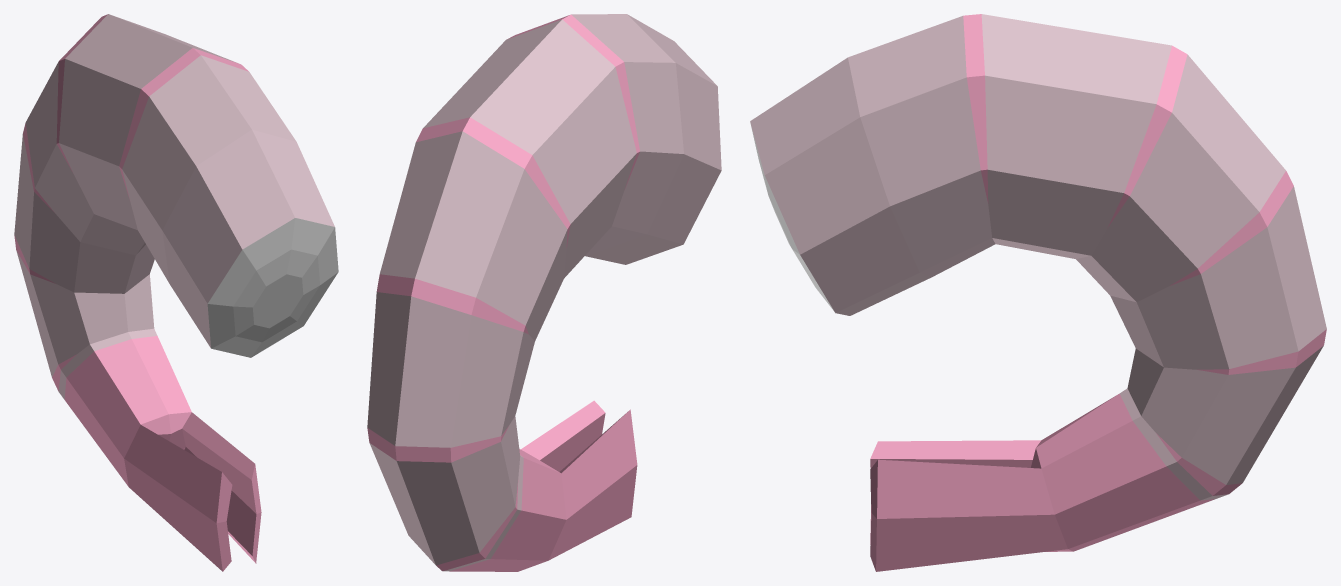
The model's file is Shrimp_01.gltf.
The picture shows the model from 3 angles, left to right: view 1: azimuth 30°, elevation 25°; view 2: azimuth 150°, elevation 25°; view 3: azimuth 270°, elevation 25°; orthographic projection. The views are drawn at different scales.
Visible parts, largest first — view 1: node-0; view 2: node-0; view 3: node-0.
Boxes of the visible parts, bbox=[...] form: node-0: bbox=[14, 14, 338, 571]; node-0: bbox=[367, 14, 721, 571]; node-0: bbox=[750, 14, 1326, 571].
Bounding box in the file's own units: 3.16 × 10.33 × 9.84.
